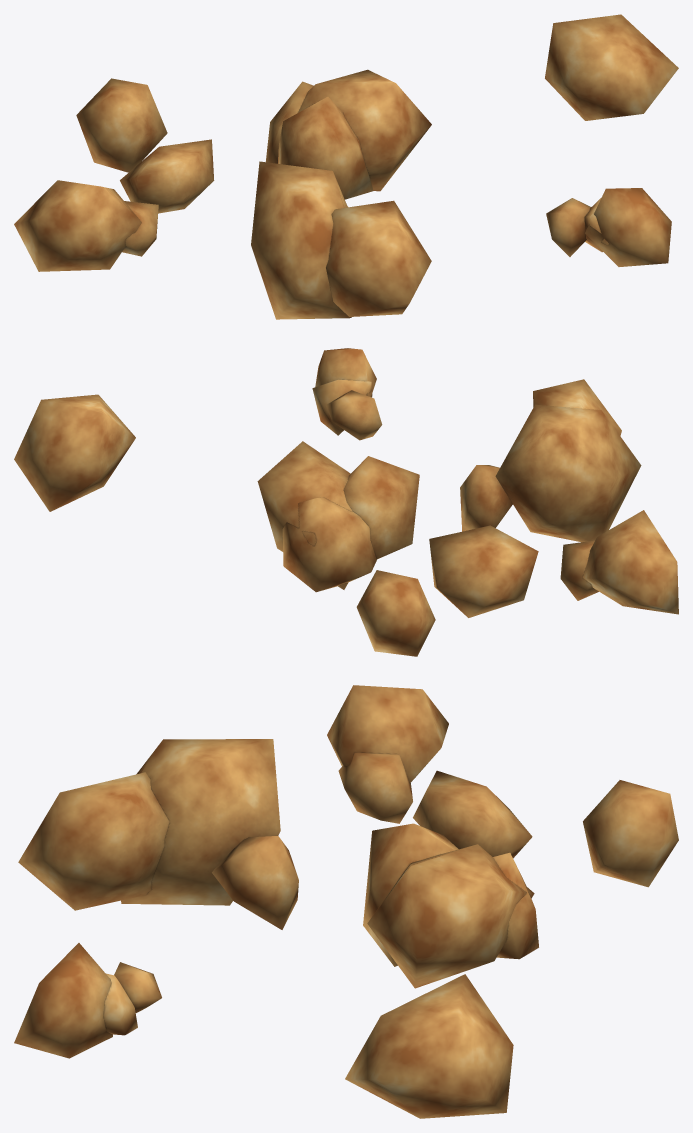
Rendered from Crumbs.fbx.
The picture shows the model from 3 angles, top to bottom: view 1: azimuth 30°, elevation 25°; view 2: azimuth 150°, elevation 25°; view 3: azimuth 270°, elevation 25°; orthographic projection. The views are drawn at different scales.
Visible parts, largest first — view 1: Crumbs; view 2: Crumbs; view 3: Crumbs.
Part boxes in pixels (box(x1,y1,x2,y2)): Crumbs: box(14, 14, 678, 319); Crumbs: box(14, 348, 678, 656); Crumbs: box(14, 685, 678, 1118).
Bounding box in the file's own units: 0.686 × 0.134 × 0.5033.
1 material, 1 textured.
